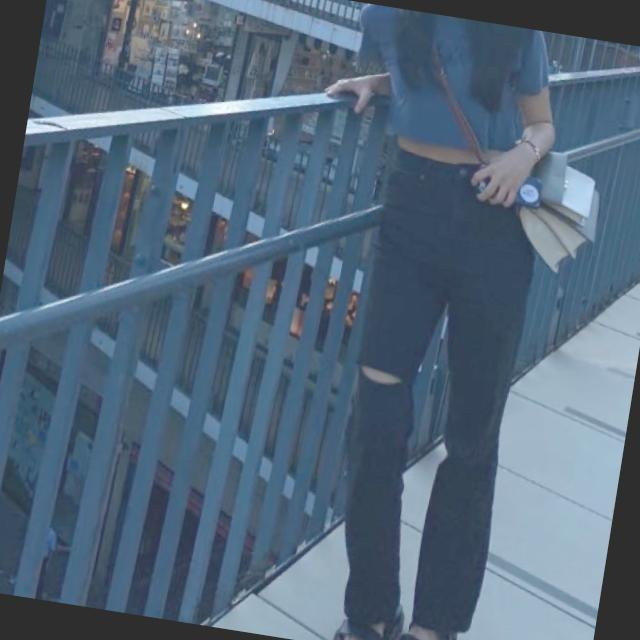denimpants: (309, 137, 552, 640)
shortsleeve: (343, 3, 553, 166)
